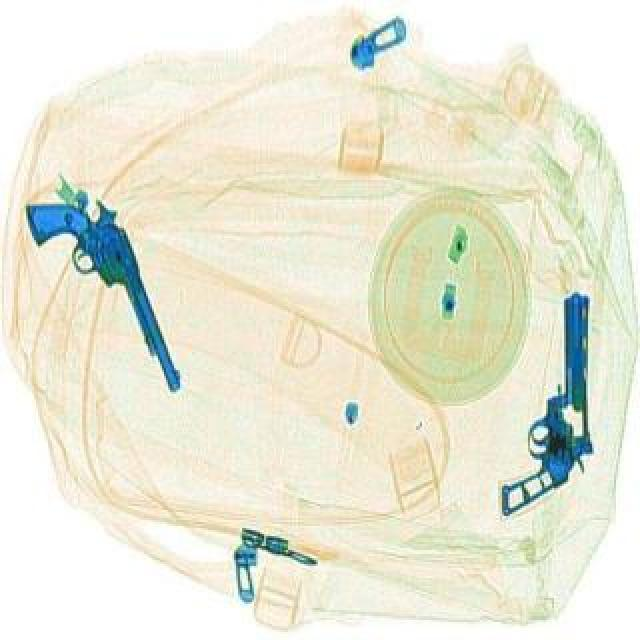gun: (20, 180, 182, 414), (492, 288, 592, 514)
